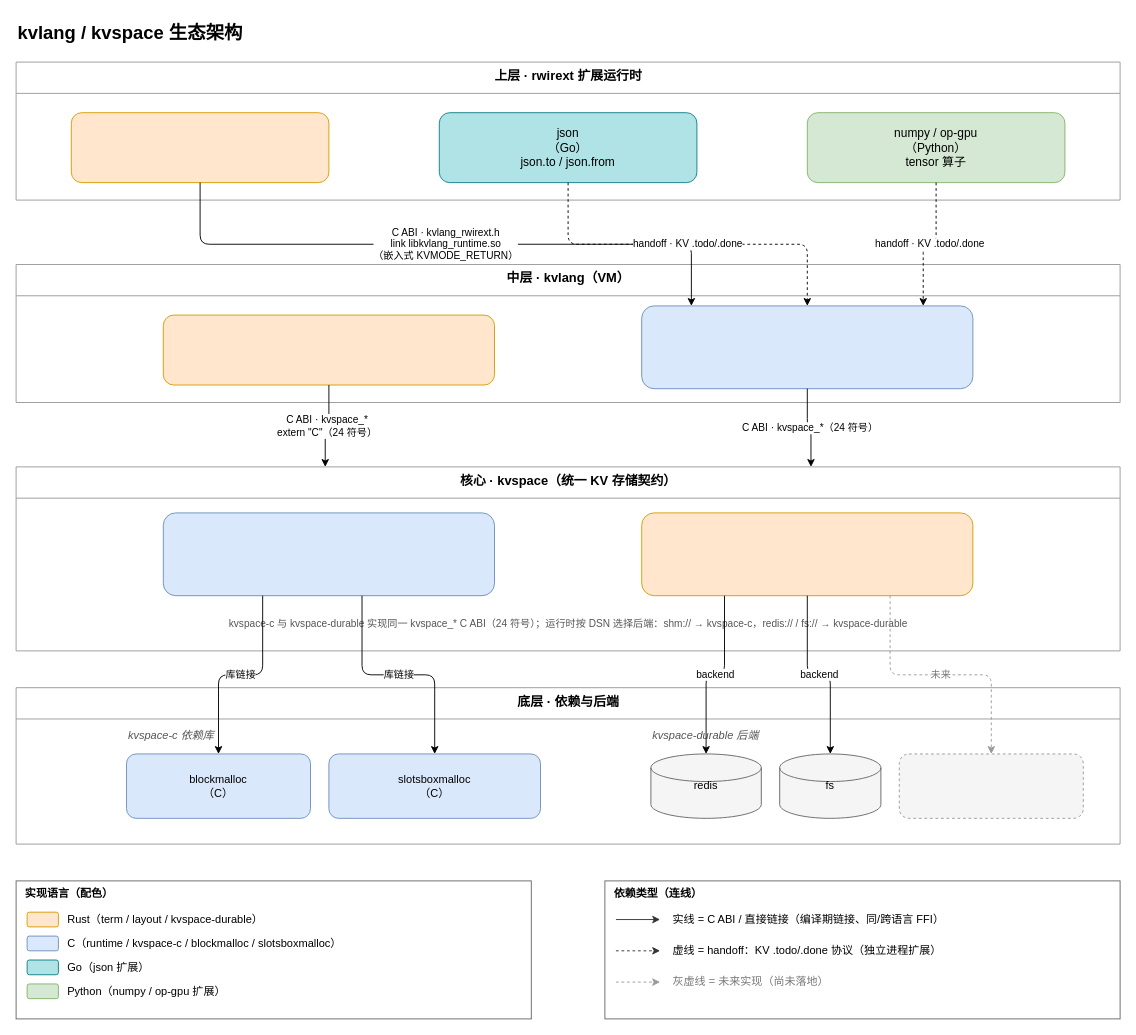
This 1136x1035 diagram has some shape labels left out. The centre of each missing label's shape, as x and y in pixels:
kvspace-c （C） 实现 kvspace_* C ABI: pixel 328 554
kvspace-durable （Rust · cdylib） 实现 kvspace_* C ABI: pixel 807 554
layout （Rust） 编译期：parser / lower / layoutcode: pixel 328 349
runtime （C） 执行期：fetch-decode-execute 对外暴露 kvlang_runtime.h + kvlang_rwirext.h: pixel 807 347
s3 / tikv … （未来）: pixel 990 785
term （Rust） print / println / cerr / input: pixel 199 147
